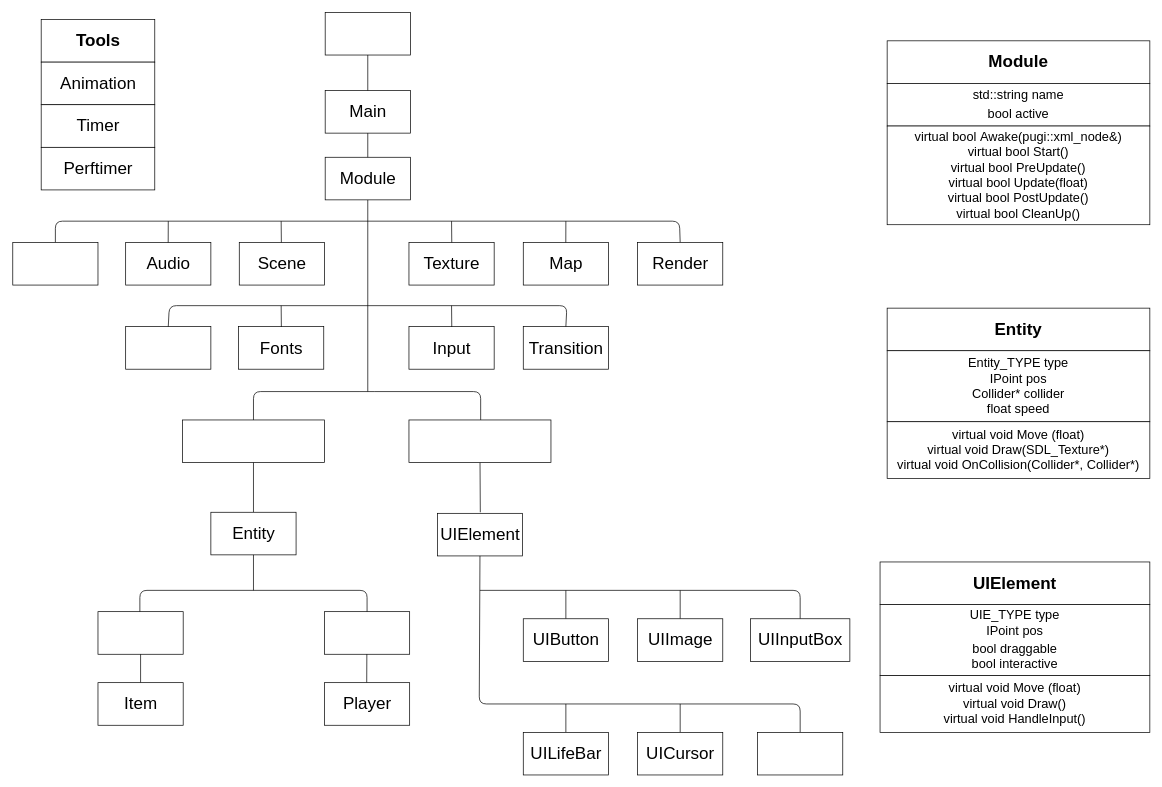
This 1162x787 diagram has some shape labels left out. Each missing label, with the centre of its shape:
"APP" belongs at pixel 367 33.
"Collision" belongs at pixel 55 263.
"Dynamic" belongs at pixel 367 632.
"EntityManager" belongs at pixel 253 441.
"GUI" belongs at pixel 479 441.
"Static" belongs at pixel 140 632.
"UILabel" belongs at pixel 800 753.
"Window" belongs at pixel 168 347.
